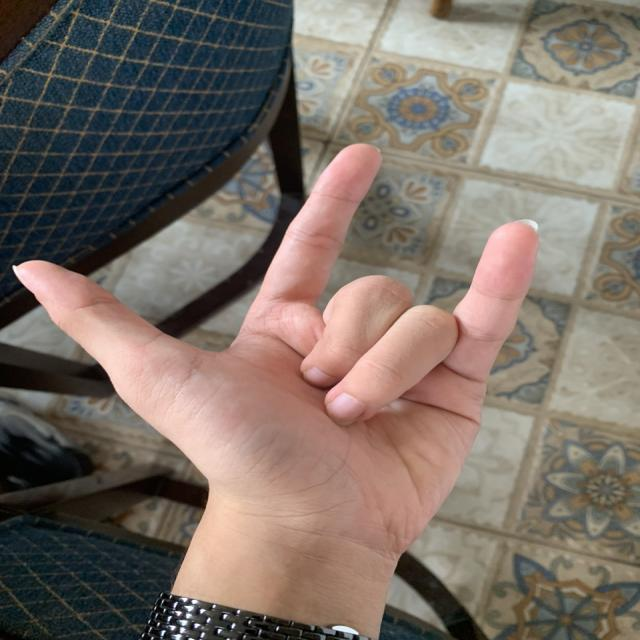love: (10, 75, 562, 566)
